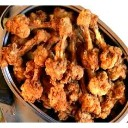chicken_lollipop: (73, 12, 120, 69), (47, 68, 88, 110), (27, 50, 47, 109), (53, 20, 71, 83), (1, 43, 48, 67), (100, 78, 127, 119), (5, 17, 59, 37)
